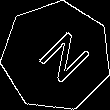N_SW: (24, 24, 89, 89)
